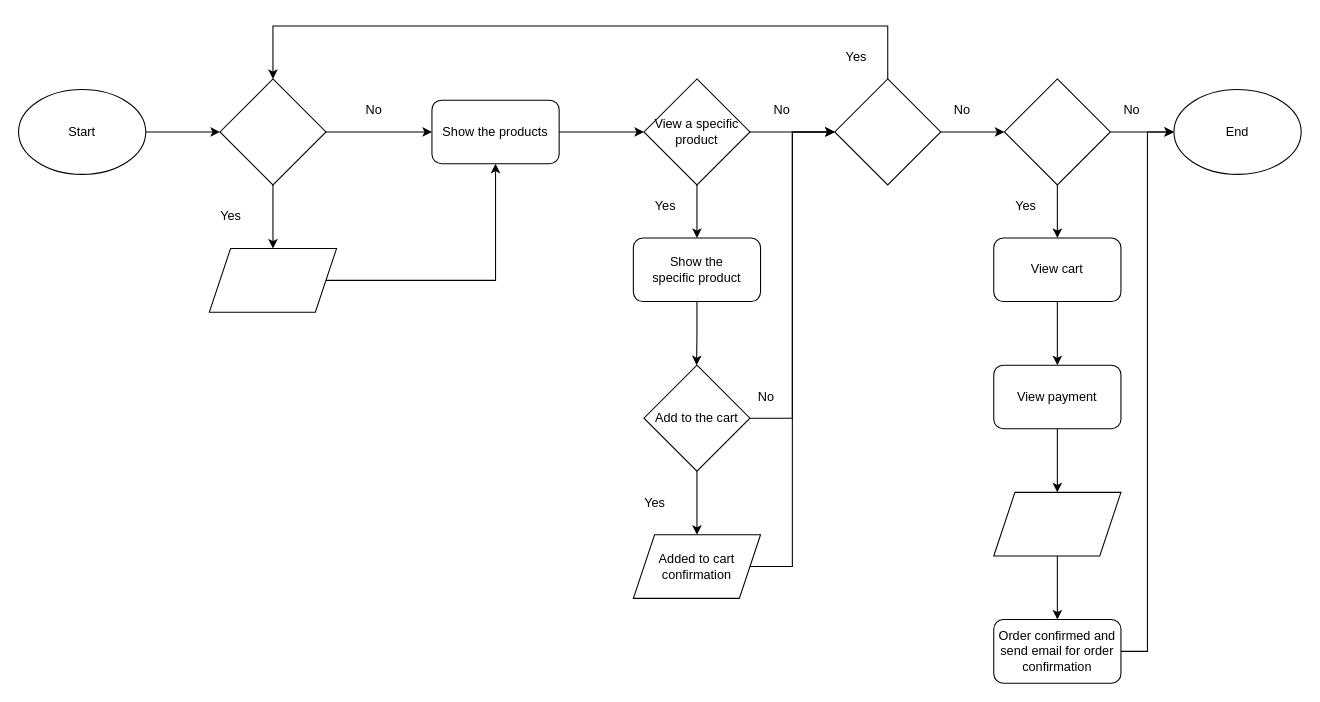
The diagram is 1320 pixels wide and 702 high, and some of its shapes have lost their labels. The shapes that lost their labels are listed below. From the top down, each one's centre as x and y in pixels, then its label:
At pixel 272 131: "Search for a product".
At pixel 887 131: "Continue shopping".
At pixel 1056 131: "Checkout".
At pixel 272 280: "Read input to seach".
At pixel 1057 523: "Read payment information".
